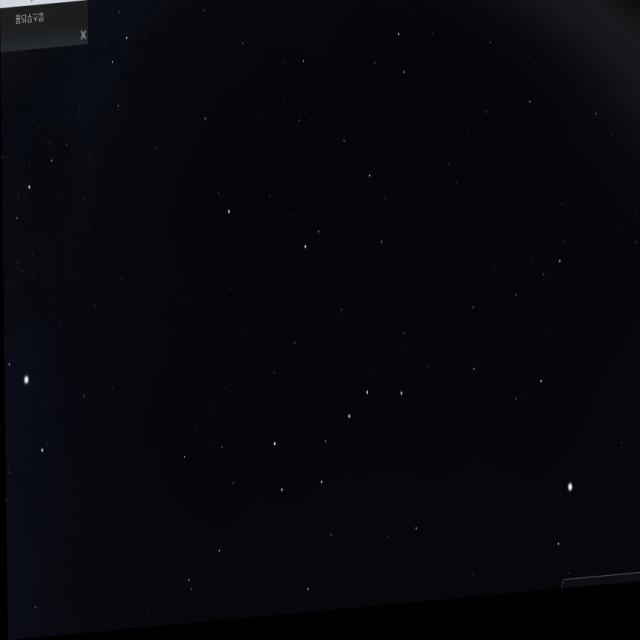cassiopeia: (100, 0, 153, 140)
ursa_major: (260, 380, 409, 525)
